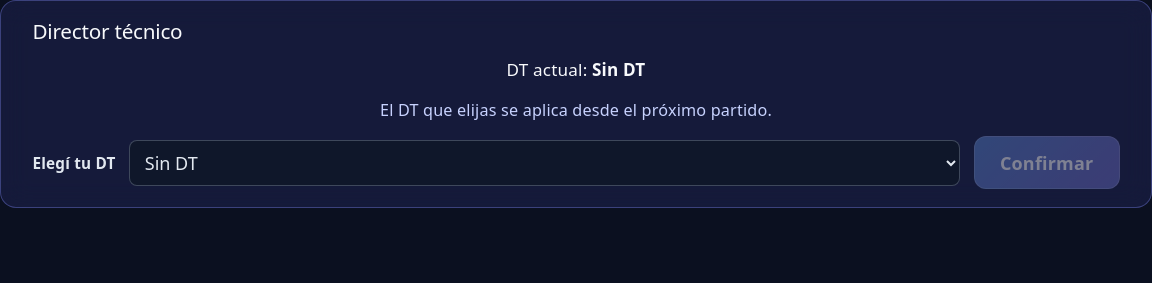
CoachSelector › Debería mostrar el error y conservar el DT anterior cuando el equipo no es del usuario
The image size is (1152, 283).
Select "DT ofensivo" in the dropdown. click: (545, 163)
box: [129,140,960,186]
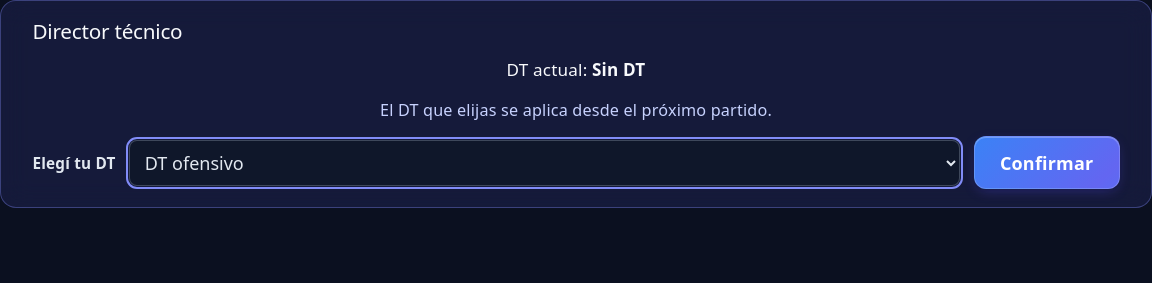
Click the button "Confirmar". click: click(1047, 163)
box: [974,136,1120,189]
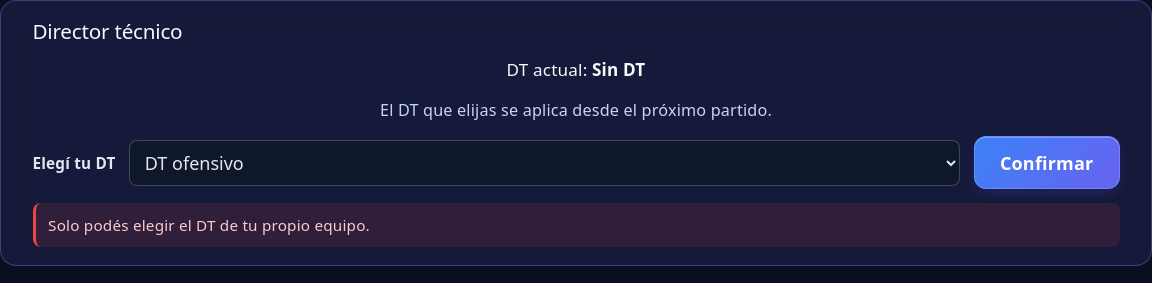
Result: the message reads "Solo podés elegir el DT de tu propio equipo." at [48,215,370,235]
